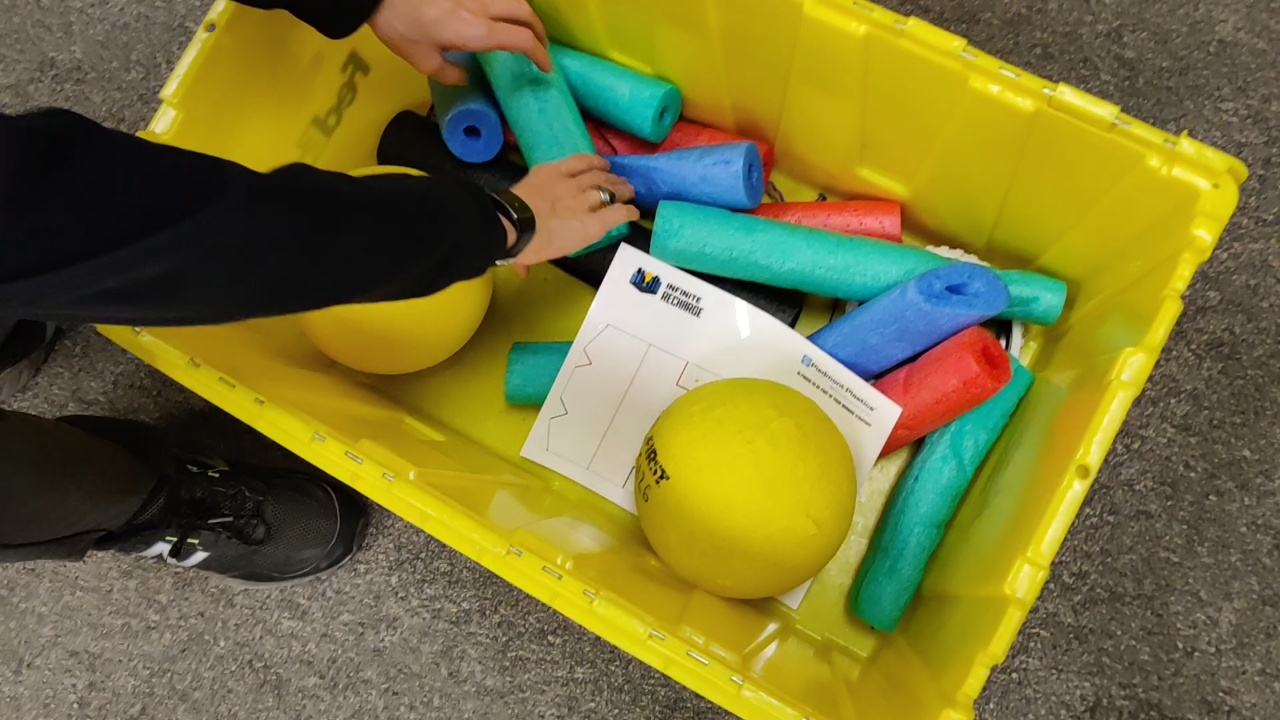Ball: (637, 378, 856, 601)
